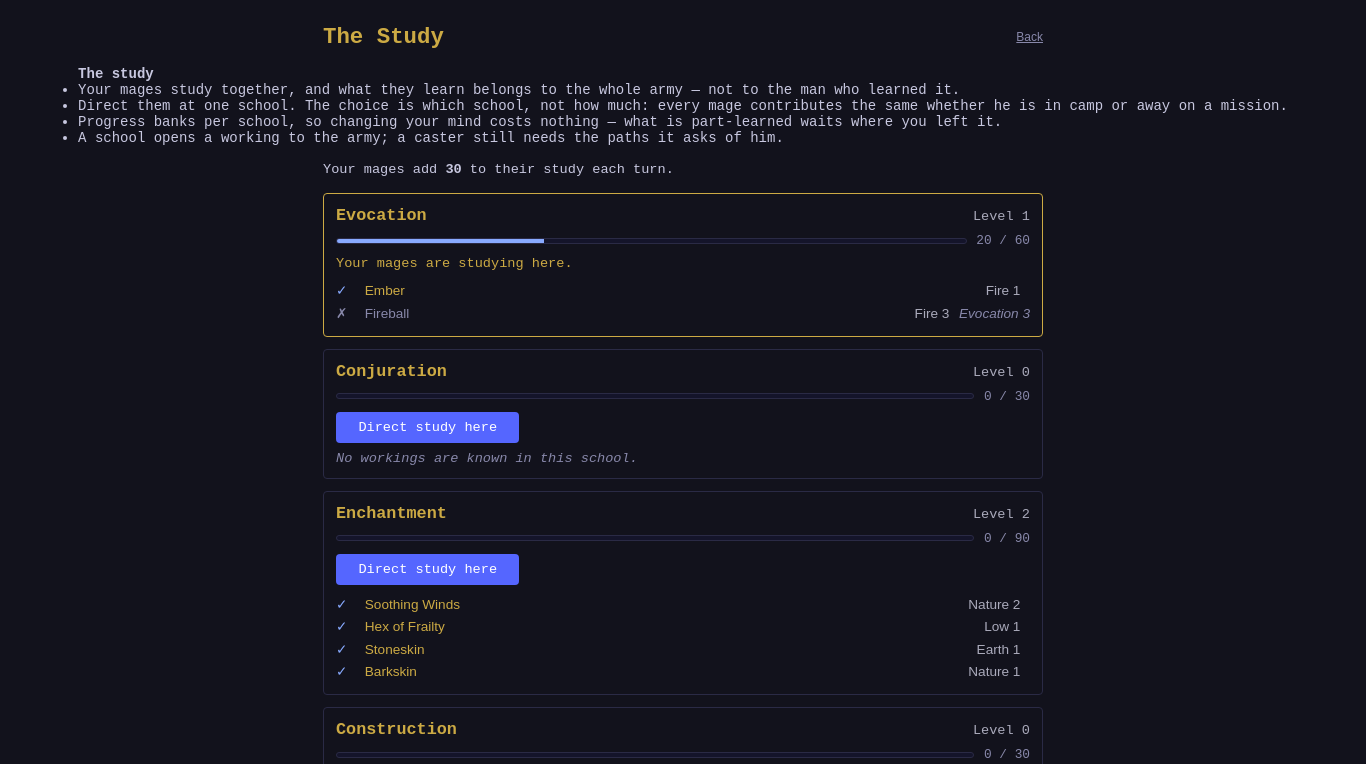
Scenario: The Study › S3-4: the menu shows names, and the description opens on click
Expected: the text "A single bolt of fire at range." is not shown
Step 1. Click the button with test id "study-spell-toggle-fireball-minor" → [385, 291], box 336,279 -> 1030,301
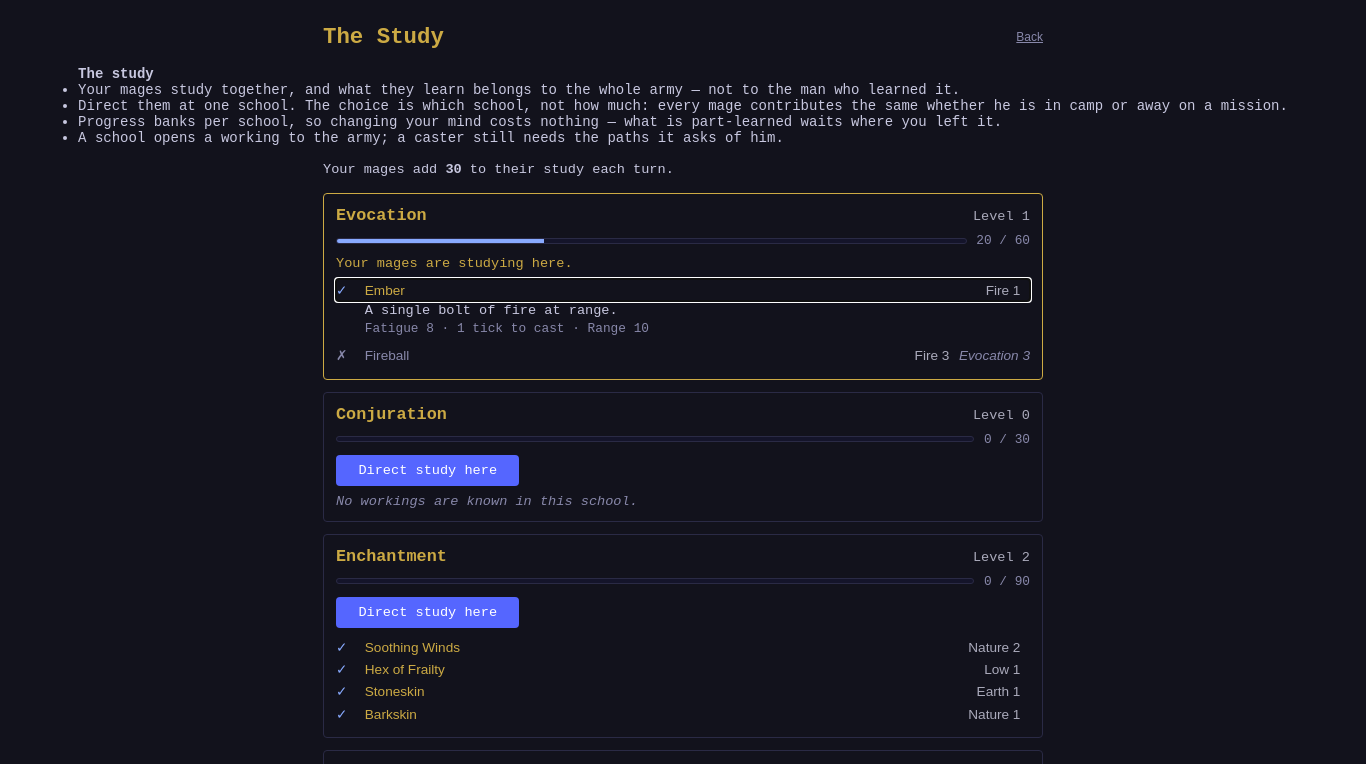
Result: the element with test id "study-spell-detail-fireball-minor" shows "A single bolt of fire at range." at 365,303 -> 618,318
Result: the element with test id "study-spell-detail-fireball-minor" shows "Fatigue 8" at 365,303 -> 649,336
Result: the element with test id "study-spell-detail-fireball-minor" shows "1 tick" at 365,303 -> 649,336
Step 2. Click the button with test id "study-spell-toggle-fireball-minor" → [385, 291], box 336,279 -> 1030,301
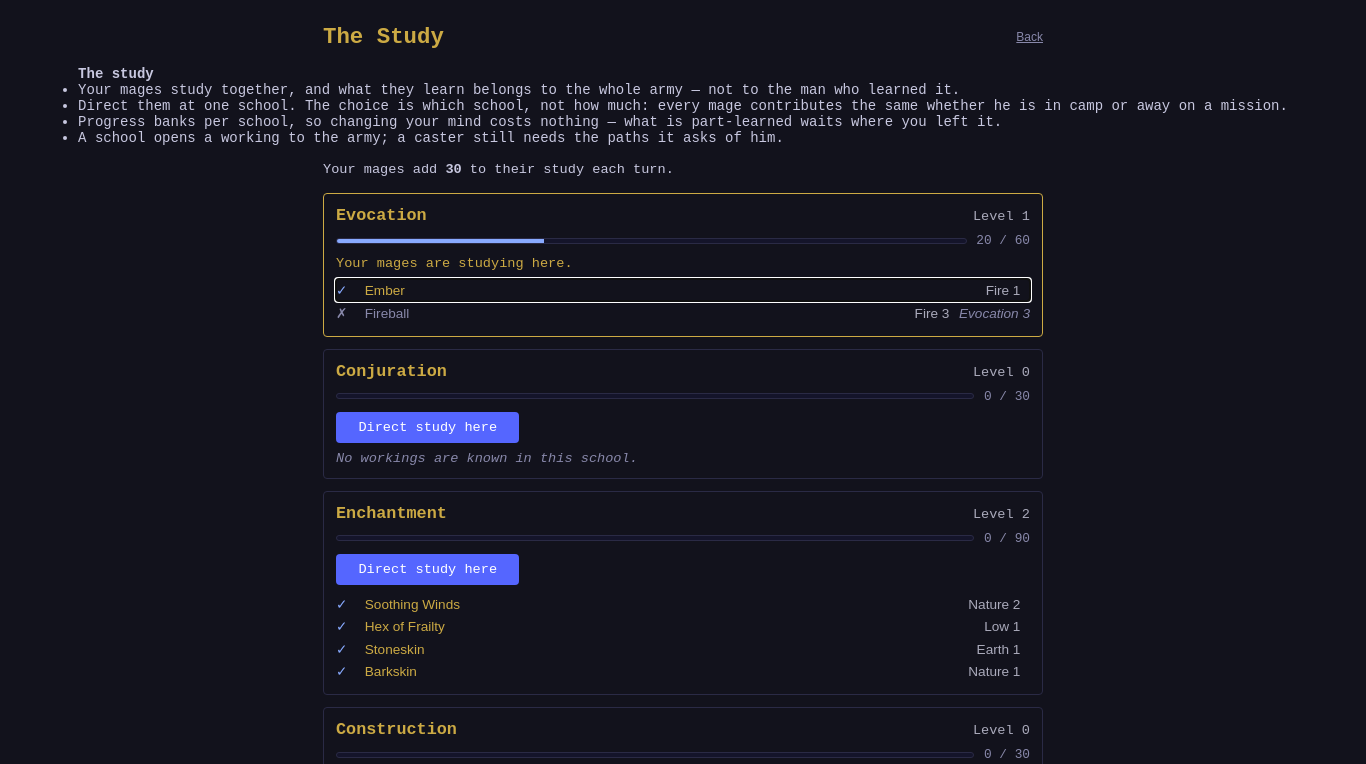
Result: the element with test id "study-spell-detail-fireball-minor" is gone
